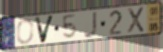2: (108, 9, 124, 36)
5: (61, 14, 77, 41)
J: (82, 11, 98, 39)
O: (16, 18, 35, 45)
V: (33, 14, 56, 45)
X: (127, 5, 146, 36)
